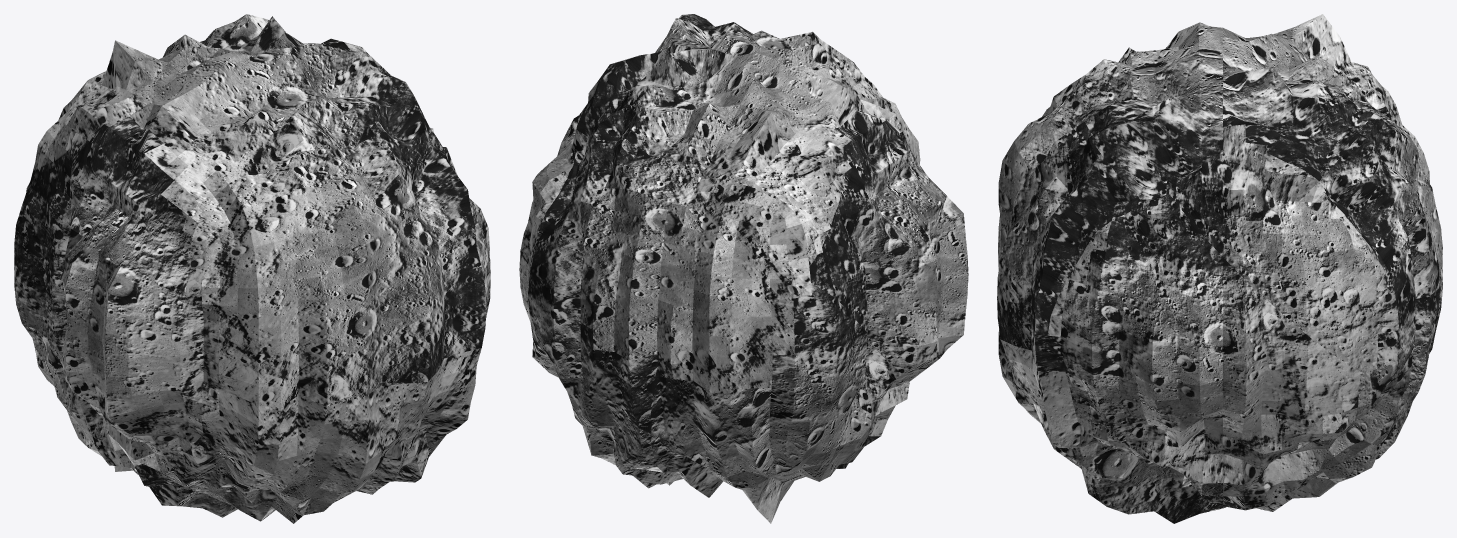
Rendered from asteroid109.obj.
3 renders of one model, left to right at view 1: azimuth 30°, elevation 25°; view 2: azimuth 150°, elevation 25°; view 3: azimuth 270°, elevation 25°, orthographic. The views are drawn at different scales.
Parts seen in each view (by area): view 1: Cube_Cube.002; view 2: Cube_Cube.002; view 3: Cube_Cube.002.
Boxes of the visible parts, x1,y1,x2,y2 form: Cube_Cube.002: (14, 14, 490, 523); Cube_Cube.002: (519, 14, 968, 523); Cube_Cube.002: (997, 14, 1442, 523).
Size of the model in its own units: 1.72 by 1.84 by 1.67.
